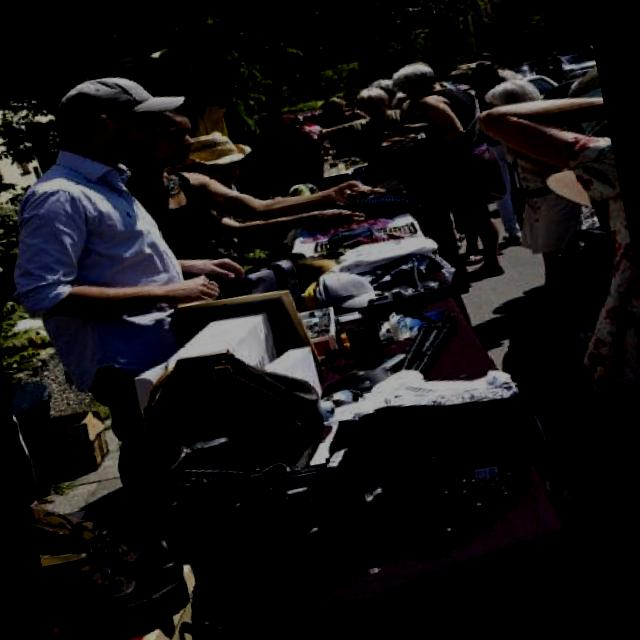Person: (0, 60, 287, 554), (471, 87, 640, 531), (295, 39, 573, 304), (110, 72, 390, 308), (164, 110, 371, 278)
